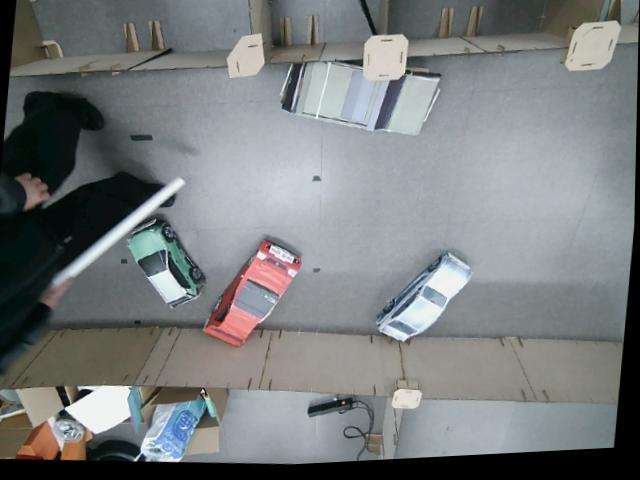car: (274, 40, 446, 146), (199, 229, 306, 355), (371, 241, 477, 348), (118, 211, 213, 314)
